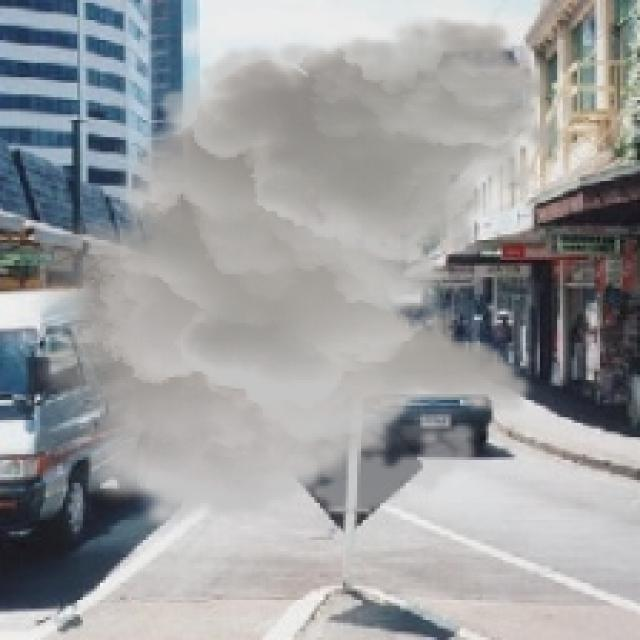smoke: (14, 14, 569, 532)
